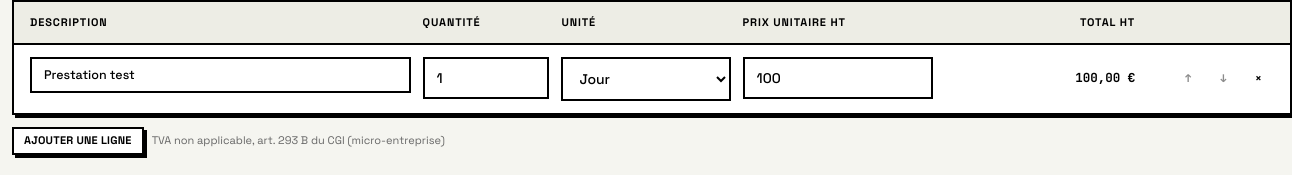
Test: ItemsEditor › recalcule le total ligne à la saisie de quantité et prix
Step 1. Replace the text in the number field named "Quantité" with "3" → (486, 78), box [423,56,550,99]
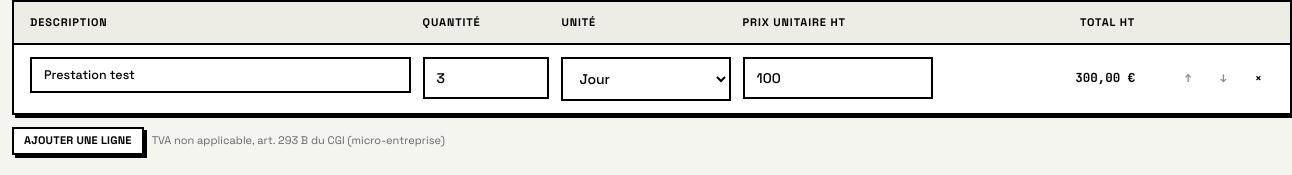
Now the text with test id "item-total-0" shows "300,00", box [1075,69,1135,86]
